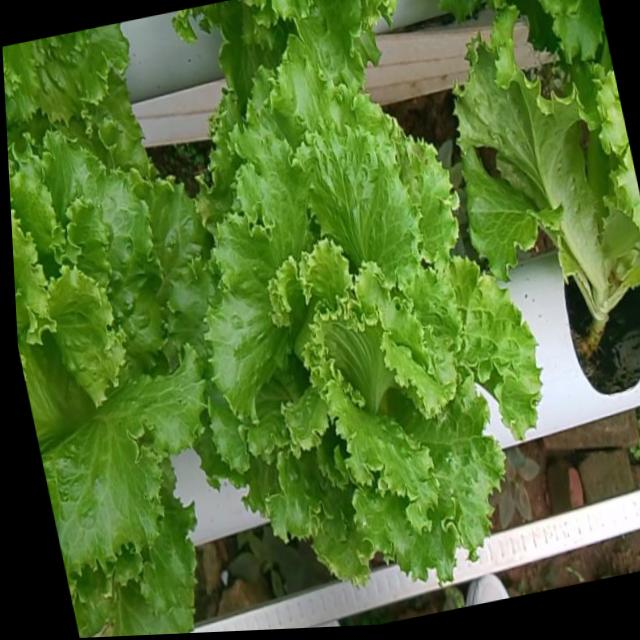Mature: (192, 69, 537, 592), (9, 140, 208, 588)
